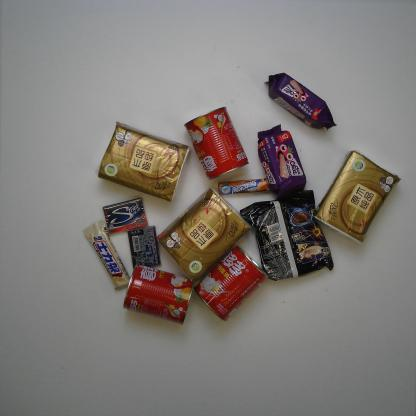Candy: (216, 174, 273, 204)
Canned Food: (196, 244, 270, 323), (182, 105, 250, 181), (121, 262, 196, 326)
Chocolate: (81, 220, 131, 290)
Dessert: (264, 72, 338, 134), (255, 123, 308, 194)
Gum: (96, 194, 149, 232), (124, 220, 161, 270)
Instant Noodles: (239, 188, 333, 284)
Tissue: (159, 187, 256, 280), (313, 150, 405, 245), (92, 114, 190, 200)
